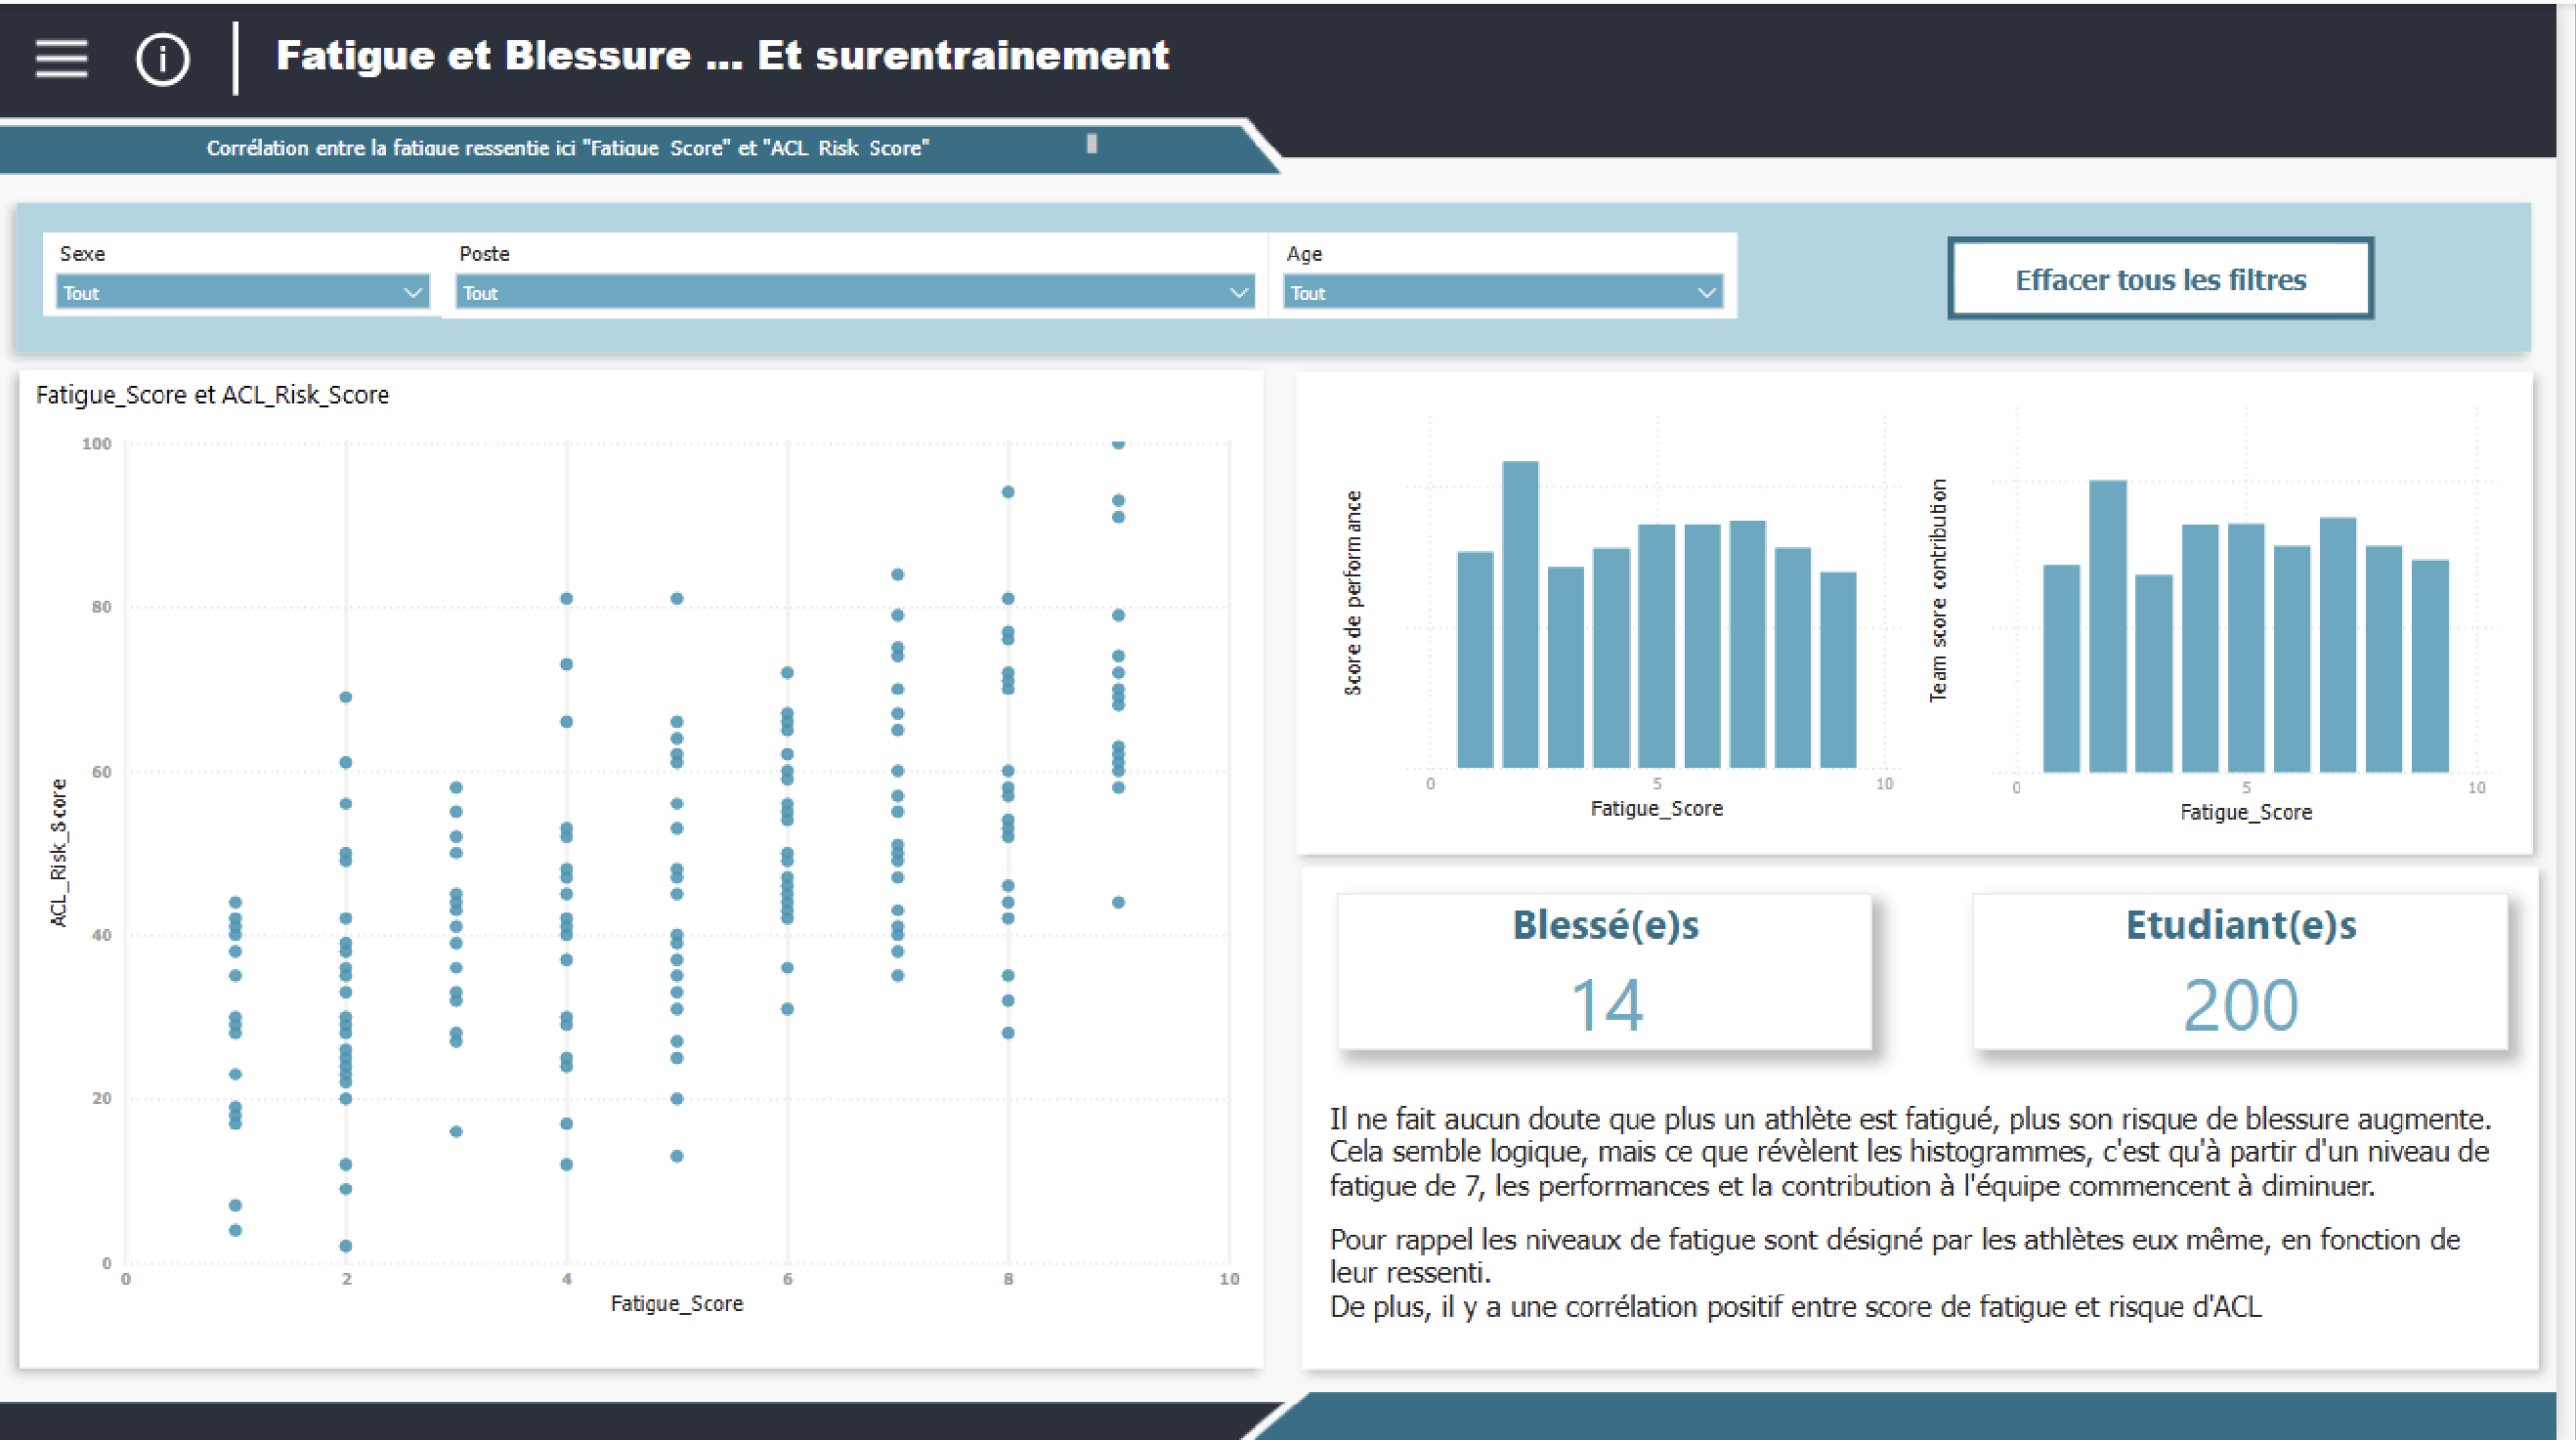

The dashboard page shown, as its layout file describes it:
{"tool":"powerbi","page":{"name":"Fatigue & Blessure","canvas":[1920,1080],"ordinal":1},"visuals":[{"type":"shape","box":[0,135.3,1916,139.7],"z":0,"group":"g3"},{"type":"shape","title":"Timeline","box":[2.7,263,960.3,775.4],"z":0,"group":"g4"},{"type":"group","id":"g1","title":"Customers","box":[961.6,263.3,954,387],"z":0},{"type":"shape","title":"Sales","box":[966.4,635.2,954,402.7],"z":0,"group":"g2"},{"type":"shape","title":"Customers","box":[961.6,263.3,954,387],"z":1000,"group":"g1"},{"type":"group","id":"g2","title":"Group 1","box":[966.4,289.8,954,748.1],"z":1000},{"type":"textbox","title":"Fatigue et Blessure ... Et surentrainement","box":[203.3,16.9,822.6,47.1],"z":2000},{"type":"actionButton","box":[97.9,13.2,54.6,56.5],"z":3000},{"type":"shape","title":"Vertical","box":[152.5,13.2,50.8,56.5],"z":4000},{"type":"image","box":[16.9,13.2,60.2,56.5],"z":5000},{"type":"group","id":"g3","title":"KPI Cards 2","box":[0,135.3,1916.8,140.1],"z":6000},{"type":"group","id":"g4","title":"MAp","box":[2.7,263,960.3,775.4],"z":7000},{"type":"group","id":"g5","title":"Filter","box":[0,0,1920.6,1080],"z":9000},{"type":"scatterChart","fields":{"X":["collegiate_athlete_injury_dataset.Fatigue_Score"],"Y":["collegiate_athlete_injury_dataset.ACL_Risk_Score"]},"box":[32.6,315.2,903.8,673.8],"z":10000},{"type":"textbox","box":[32.6,92.4,797,27.2],"z":11000},{"type":"columnChart","fields":{"Category":["collegiate_athlete_injury_dataset.Fatigue_Score"],"Y":["Sum(collegiate_athlete_injury_dataset.Performance_Score)"]},"box":[1005.3,295.2,432.9,322.4],"z":12000},{"type":"slicer","fields":{"Values":["collegiate_athlete_injury_dataset.Gender"]},"box":[32.6,172.1,300.7,63.4],"z":13000},{"type":"columnChart","fields":{"Y":["Sum(collegiate_athlete_injury_dataset.Team_Contribution_Score)"],"Category":["collegiate_athlete_injury_dataset.Fatigue_Score"]},"box":[1445.7,289.8,438.3,331.5],"z":13502,"group":"g2"},{"type":"slicer","fields":{"Values":["collegiate_athlete_injury_dataset.Poste"]},"box":[333.3,172.1,621.3,65.2],"z":14000},{"type":"slicer","fields":{"Values":["collegiate_athlete_injury_dataset.Age"]},"box":[954.6,172.1,351.4,65.2],"z":15000},{"type":"actionButton","box":[1463.5,173.9,320.6,63.4],"z":16000},{"type":"card","title":"Blessé(e)s","fields":{"Values":["Sum(collegiate_athlete_injury_dataset.Injury_Indicator)"]},"box":[1004.7,667.9,401.5,118],"z":17000},{"type":"card","title":"Etudiant(e)s","fields":{"Values":["CountNonNull(collegiate_athlete_injury_dataset.Fatigue_Score)"]},"box":[1482.3,667.9,401.5,118],"z":18000},{"type":"textbox","box":[994.7,819.3,899.8,183.1],"z":18001,"group":"g2"}]}

Visuals, with their boxes in screenshot pixels (x1, y1, x2, y2), scaled from the page's 1920x1080 canvas onto the 2576x1440 screenshot:
shape: bbox=(0, 181, 2571, 366)
"Timeline" shape: bbox=(4, 351, 1292, 1384)
"Customers" group: bbox=(1290, 351, 2570, 868)
"Sales" shape: bbox=(1297, 847, 2575, 1384)
"Customers" shape: bbox=(1290, 351, 2570, 868)
"Group 1" group: bbox=(1297, 387, 2575, 1384)
"Fatigue et Blessure ... Et surentrainement" textbox: bbox=(273, 22, 1376, 85)
actionButton: bbox=(131, 18, 204, 93)
"Vertical" shape: bbox=(204, 18, 273, 93)
image: bbox=(22, 18, 104, 93)
"KPI Cards 2" group: bbox=(0, 181, 2572, 367)
"MAp" group: bbox=(4, 351, 1292, 1384)
"Filter" group: bbox=(0, 0, 2575, 1439)
scatterChart - collegiate_athlete_injury_dataset.Fatigue_Score x collegiate_athlete_injury_dataset.ACL_Risk_Score: bbox=(44, 420, 1257, 1319)
textbox: bbox=(44, 123, 1113, 159)
columnChart - collegiate_athlete_injury_dataset.Fatigue_Score x Sum(collegiate_athlete_injury_dataset.Performance_Score): bbox=(1349, 394, 1930, 824)
slicer - collegiate_athlete_injury_dataset.Gender: bbox=(44, 230, 448, 314)
columnChart - Sum(collegiate_athlete_injury_dataset.Team_Contribution_Score) x collegiate_athlete_injury_dataset.Fatigue_Score: bbox=(1940, 387, 2528, 828)
slicer - collegiate_athlete_injury_dataset.Poste: bbox=(448, 230, 1281, 317)
slicer - collegiate_athlete_injury_dataset.Age: bbox=(1281, 230, 1752, 317)
actionButton: bbox=(1963, 232, 2393, 317)
"Blessé(e)s" card: bbox=(1348, 891, 1887, 1048)
"Etudiant(e)s" card: bbox=(1989, 891, 2527, 1048)
textbox: bbox=(1335, 1092, 2542, 1336)
